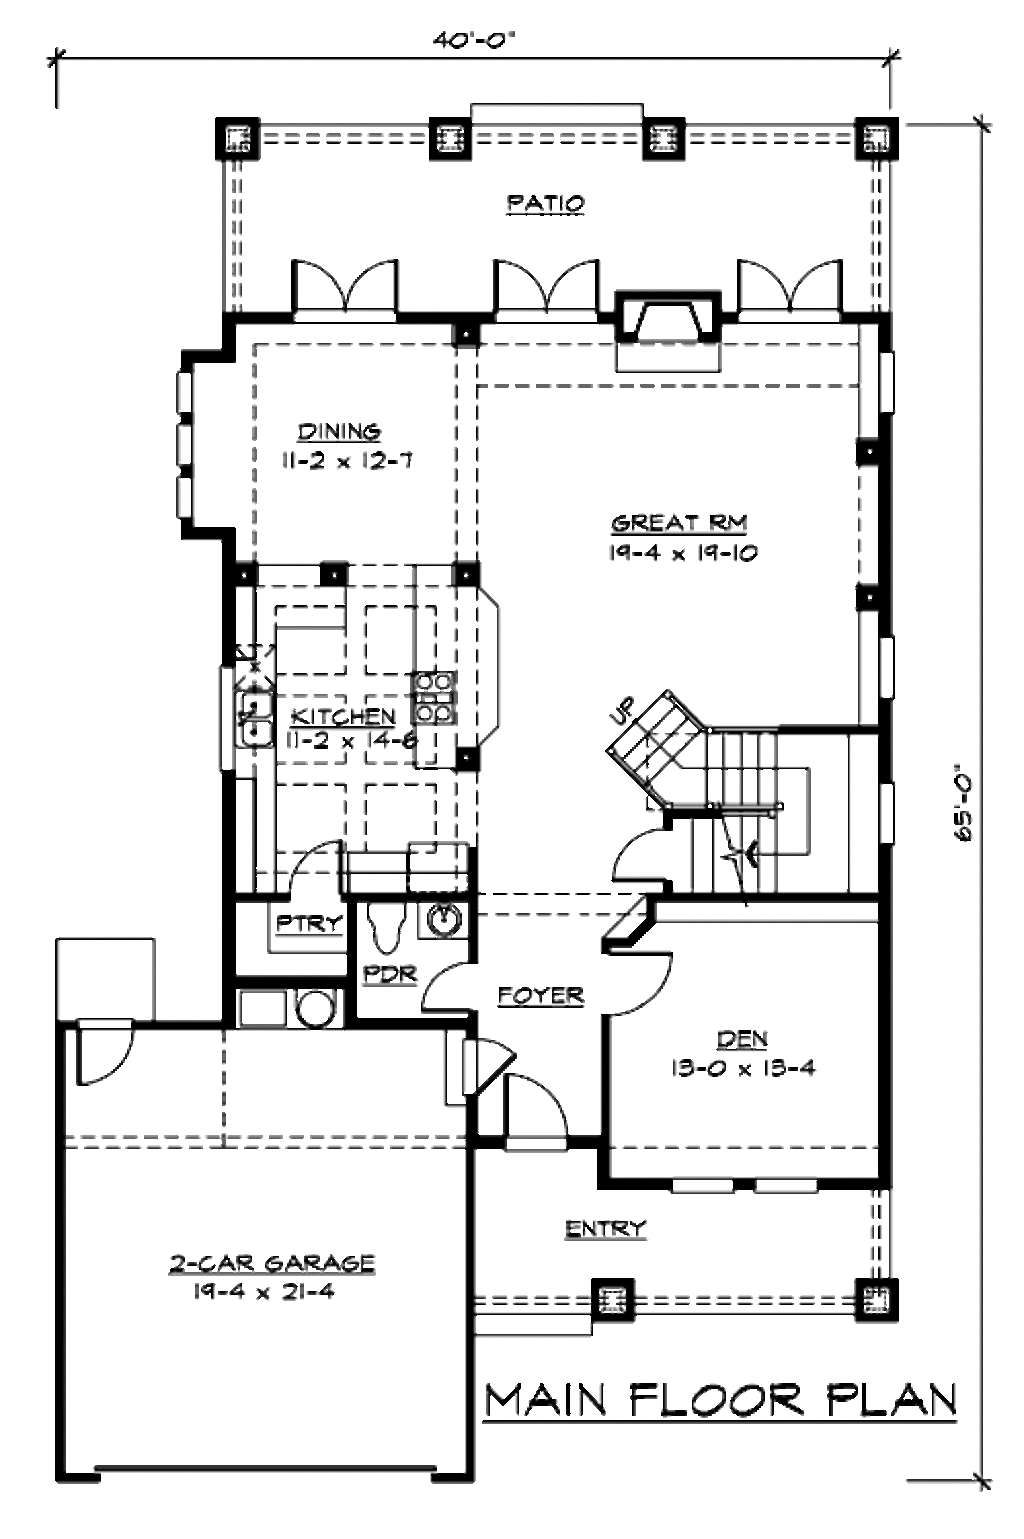door: (274, 243, 408, 348), (731, 250, 850, 348), (53, 1013, 174, 1108), (481, 243, 597, 334), (491, 1064, 576, 1167), (603, 939, 693, 1027), (601, 818, 677, 904), (271, 836, 343, 906), (422, 932, 475, 1025)
large_sink: (355, 890, 409, 971)
small_sink: (413, 904, 467, 941)
stairs: (583, 702, 894, 904)
twin_sink: (209, 664, 295, 764)
window: (669, 1159, 827, 1215), (167, 369, 213, 534), (855, 340, 923, 441), (865, 614, 920, 729)
